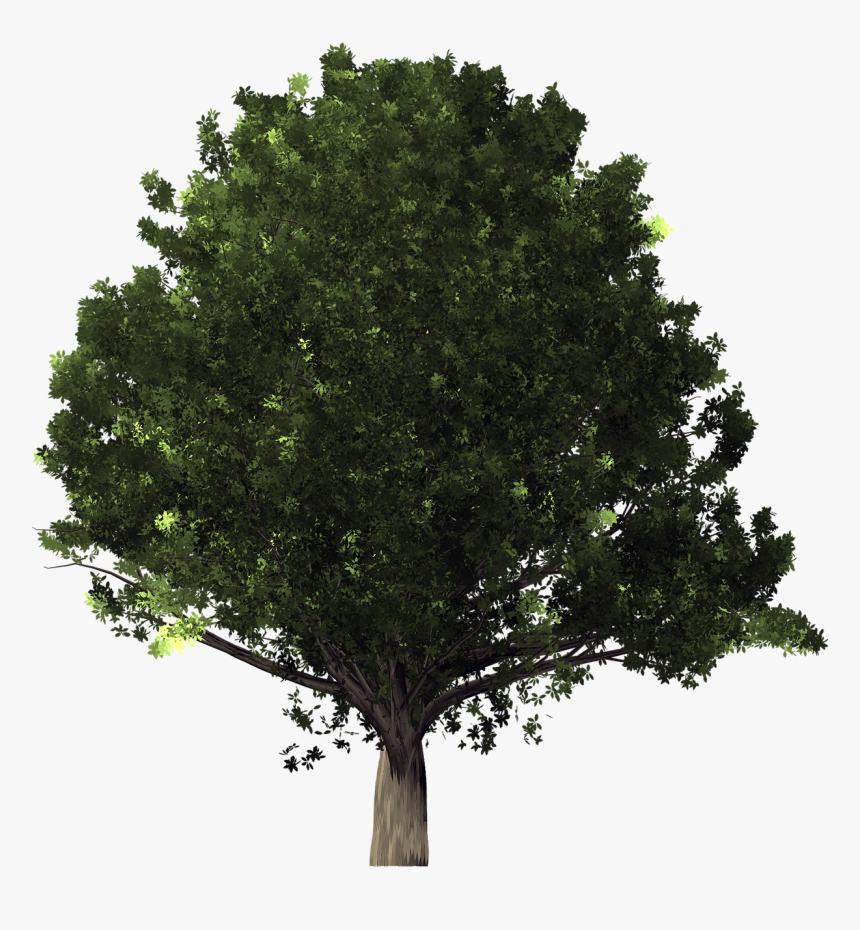plants: (5, 20, 860, 856)
